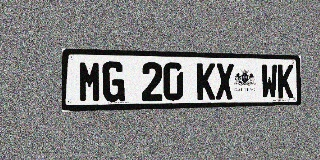0: (163, 62, 183, 101)
2: (142, 62, 162, 101)
G: (102, 61, 125, 102)
K: (197, 63, 215, 100), (278, 64, 293, 98)
M: (78, 61, 102, 103)
W: (261, 64, 277, 99)
X: (216, 63, 234, 100)
